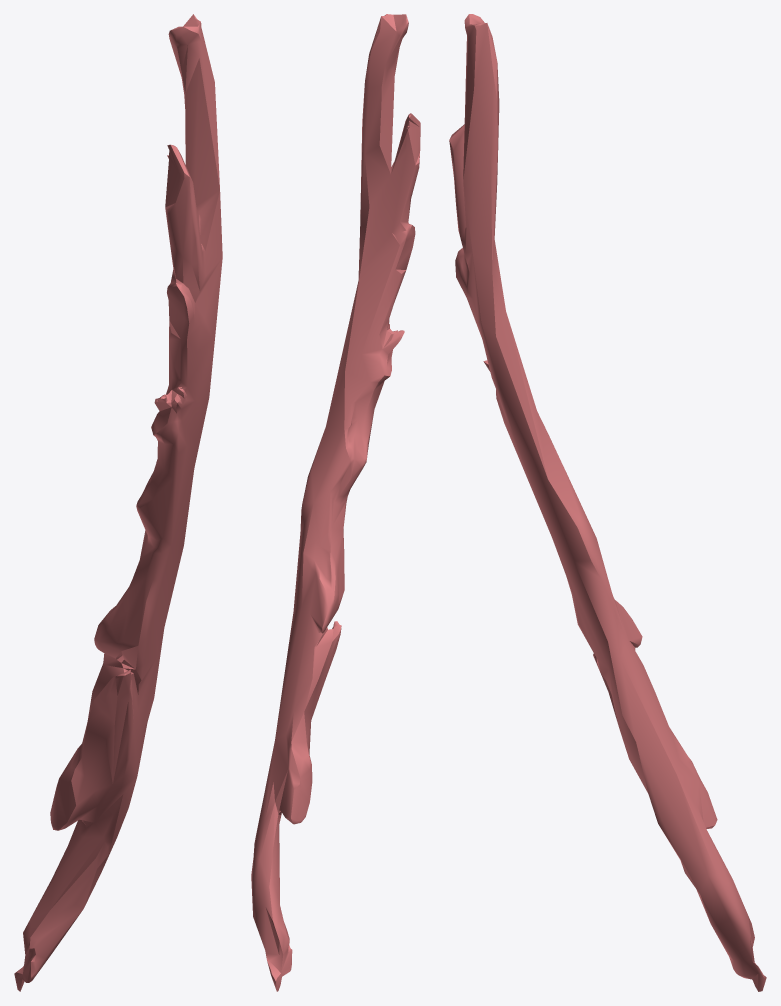
3 views of the same model, side by side, from view 1: azimuth 30°, elevation 25°; view 2: azimuth 150°, elevation 25°; view 3: azimuth 270°, elevation 25° (orthographic). The views are drawn at different scales.
Visible parts, largest first — view 1: FJ1543M; view 2: FJ1543M; view 3: FJ1543M.
Part boxes in pixels (x1,y1,x2,y2): FJ1543M: (14, 14, 222, 991); FJ1543M: (251, 14, 420, 991); FJ1543M: (449, 14, 766, 991).
Size of the model in its own units: 0.00784 by 0.1056 by 0.031.
